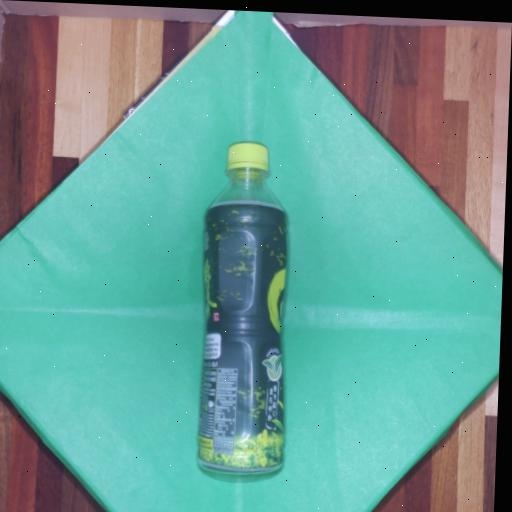bottle: (199, 143, 287, 473)
